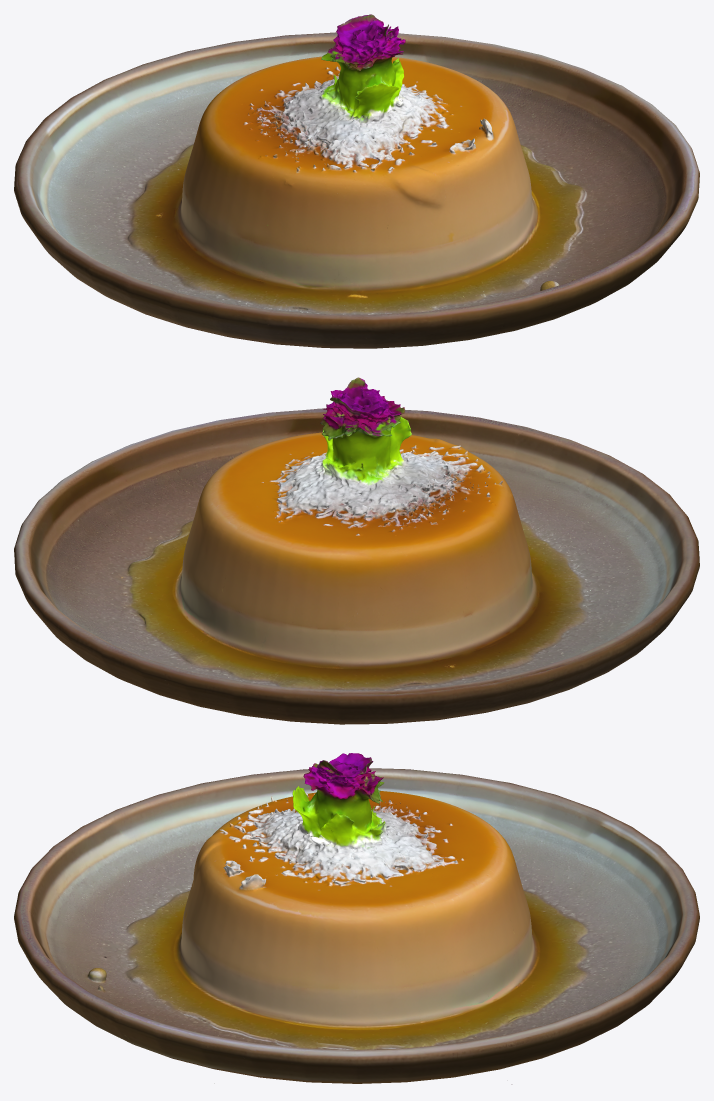
Rendered from Caramel_Pudding.glb.
3 views of the same model, one above another, from view 1: azimuth 30°, elevation 25°; view 2: azimuth 150°, elevation 25°; view 3: azimuth 270°, elevation 25° (orthographic).
Size of the model in its own units: 1.9 by 0.7817 by 1.9.
1 material, 1 textured.
